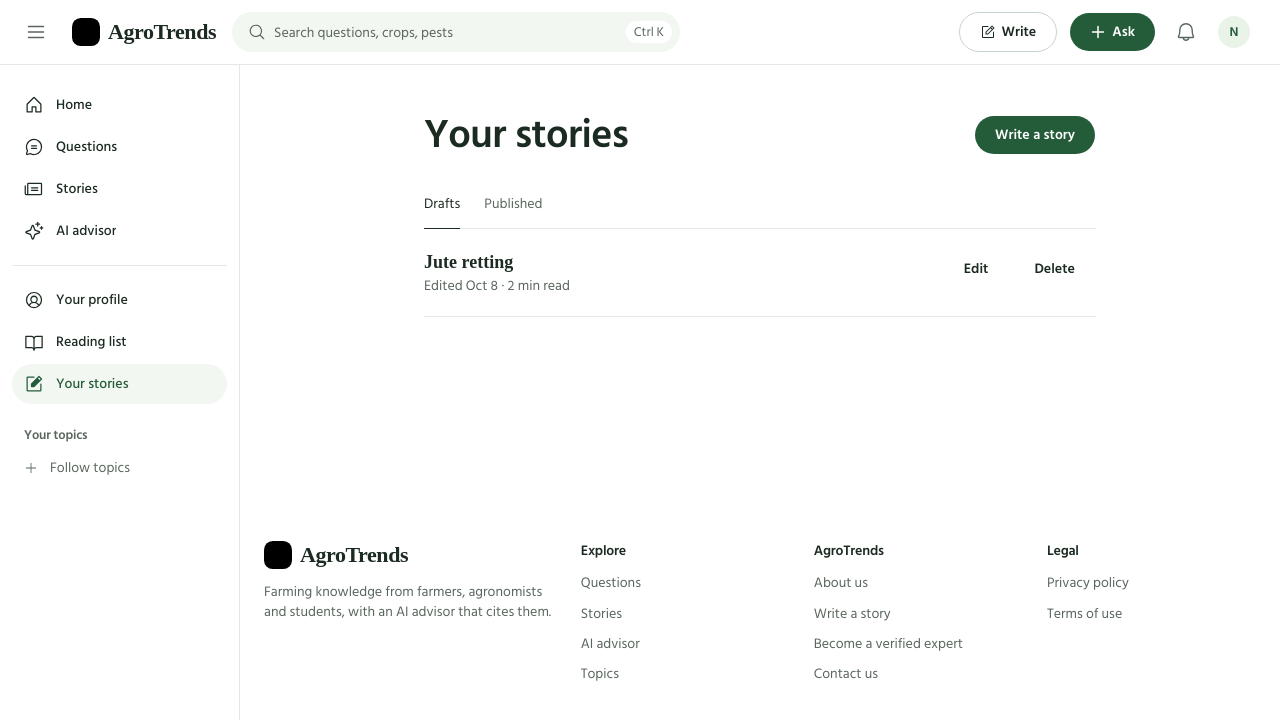
Test case: a draft opened from the list loads its body by id, as lists carry only an excerpt
Click the link "Jute retting".
click(469, 262)  # box [424,252,513,272]
(page scrolled)
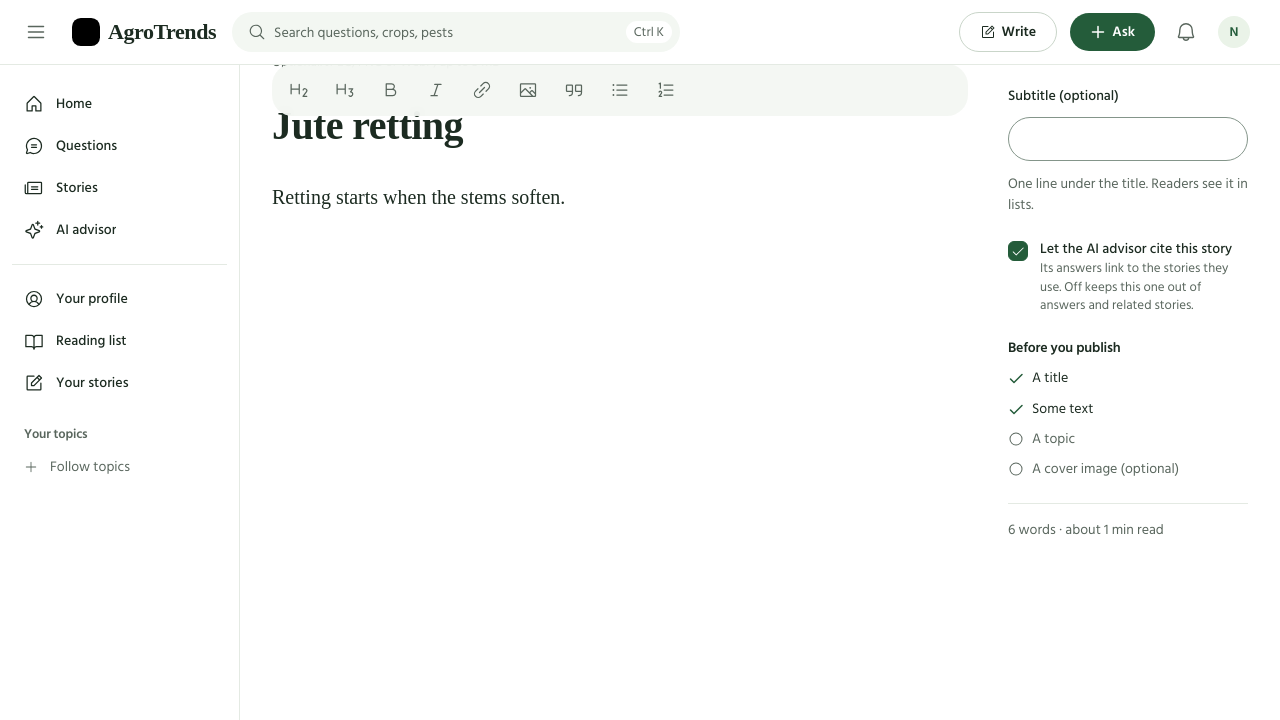
Check: the field named "Story" reads "Retting starts when the stems soften.", box [272,186,565,208]
